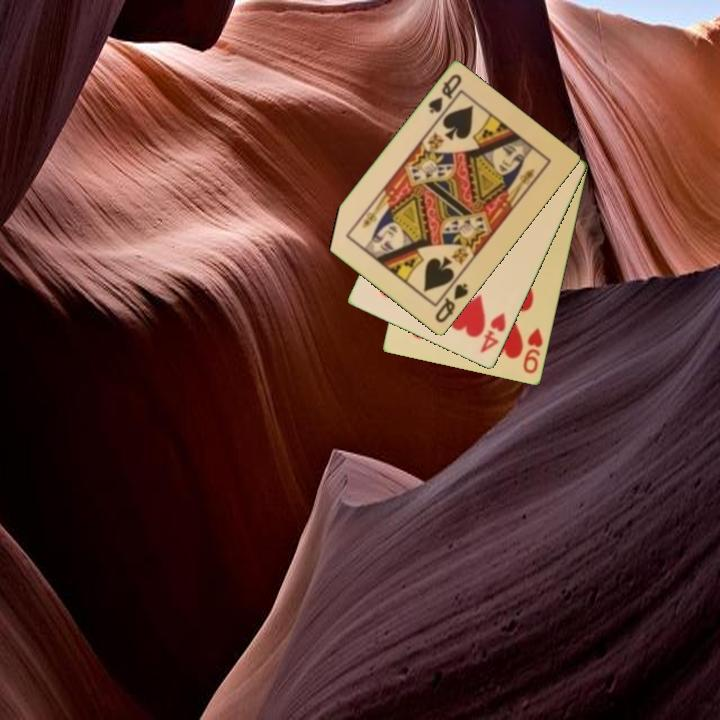4h: (476, 310, 509, 357)
9h: (520, 324, 546, 377)
Qs: (431, 280, 471, 326), (425, 71, 465, 117)
